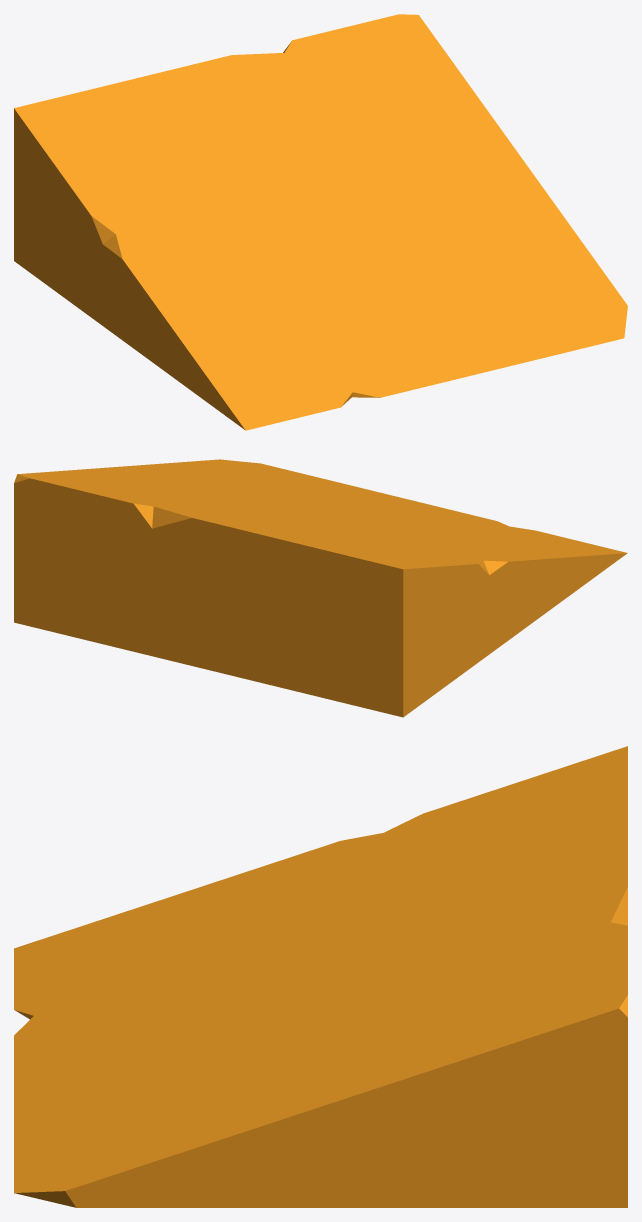
File: SM_Buildings_Ramp_20_1x1_01P.fbx
The picture shows the model from 3 angles, top to bottom: view 1: azimuth 30°, elevation 25°; view 2: azimuth 150°, elevation 25°; view 3: azimuth 270°, elevation 25°; orthographic projection. The views are drawn at different scales.
Parts seen in each view (by area): view 1: SM_Buildings_Ramp_20_1x1_01P; view 2: SM_Buildings_Ramp_20_1x1_01P; view 3: SM_Buildings_Ramp_20_1x1_01P.
Boxes of the visible parts, x1,y1,x2,y2 form: SM_Buildings_Ramp_20_1x1_01P: (14, 14, 627, 430); SM_Buildings_Ramp_20_1x1_01P: (14, 459, 627, 717); SM_Buildings_Ramp_20_1x1_01P: (14, 746, 627, 1207).
Bounding box in the file's own units: 100 × 36.38 × 100.
